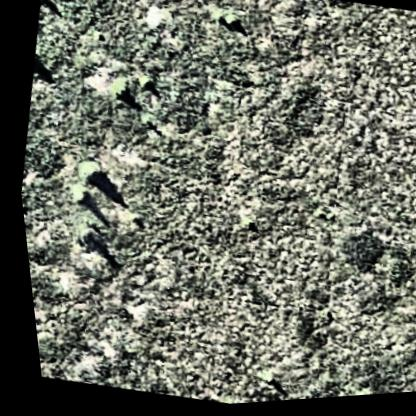tree-top: (65, 225, 98, 254), (71, 159, 101, 187), (110, 82, 130, 102), (67, 188, 87, 206), (223, 18, 241, 35), (132, 77, 150, 94), (252, 376, 270, 391)
